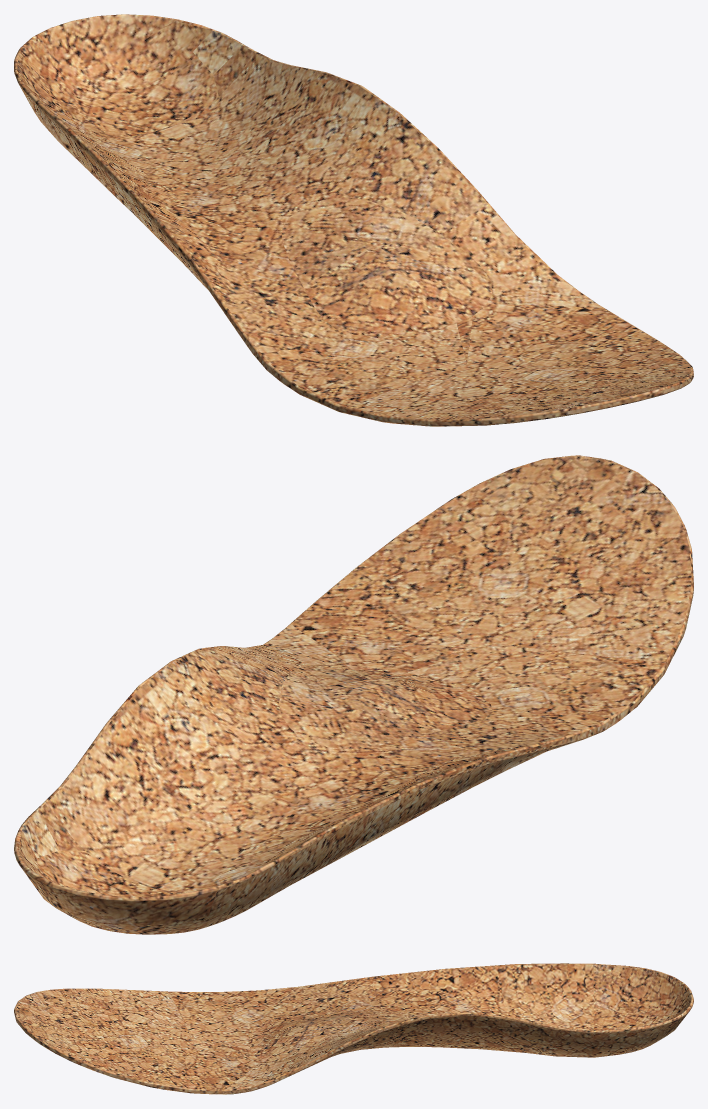
3 views of the same model, one above another, from view 1: azimuth 30°, elevation 25°; view 2: azimuth 150°, elevation 25°; view 3: azimuth 270°, elevation 25° (orthographic). The views are drawn at different scales.
Visible parts, largest first — view 1: ENV; view 2: ENV; view 3: ENV.
Boxes of the visible parts, x1,y1,x2,y2 form: ENV: [14, 14, 693, 426]; ENV: [14, 455, 693, 934]; ENV: [14, 963, 693, 1094].
Bounding box in the file's own units: 920 × 286 × 2666.
Materials: 1 (1 with a texture image).
